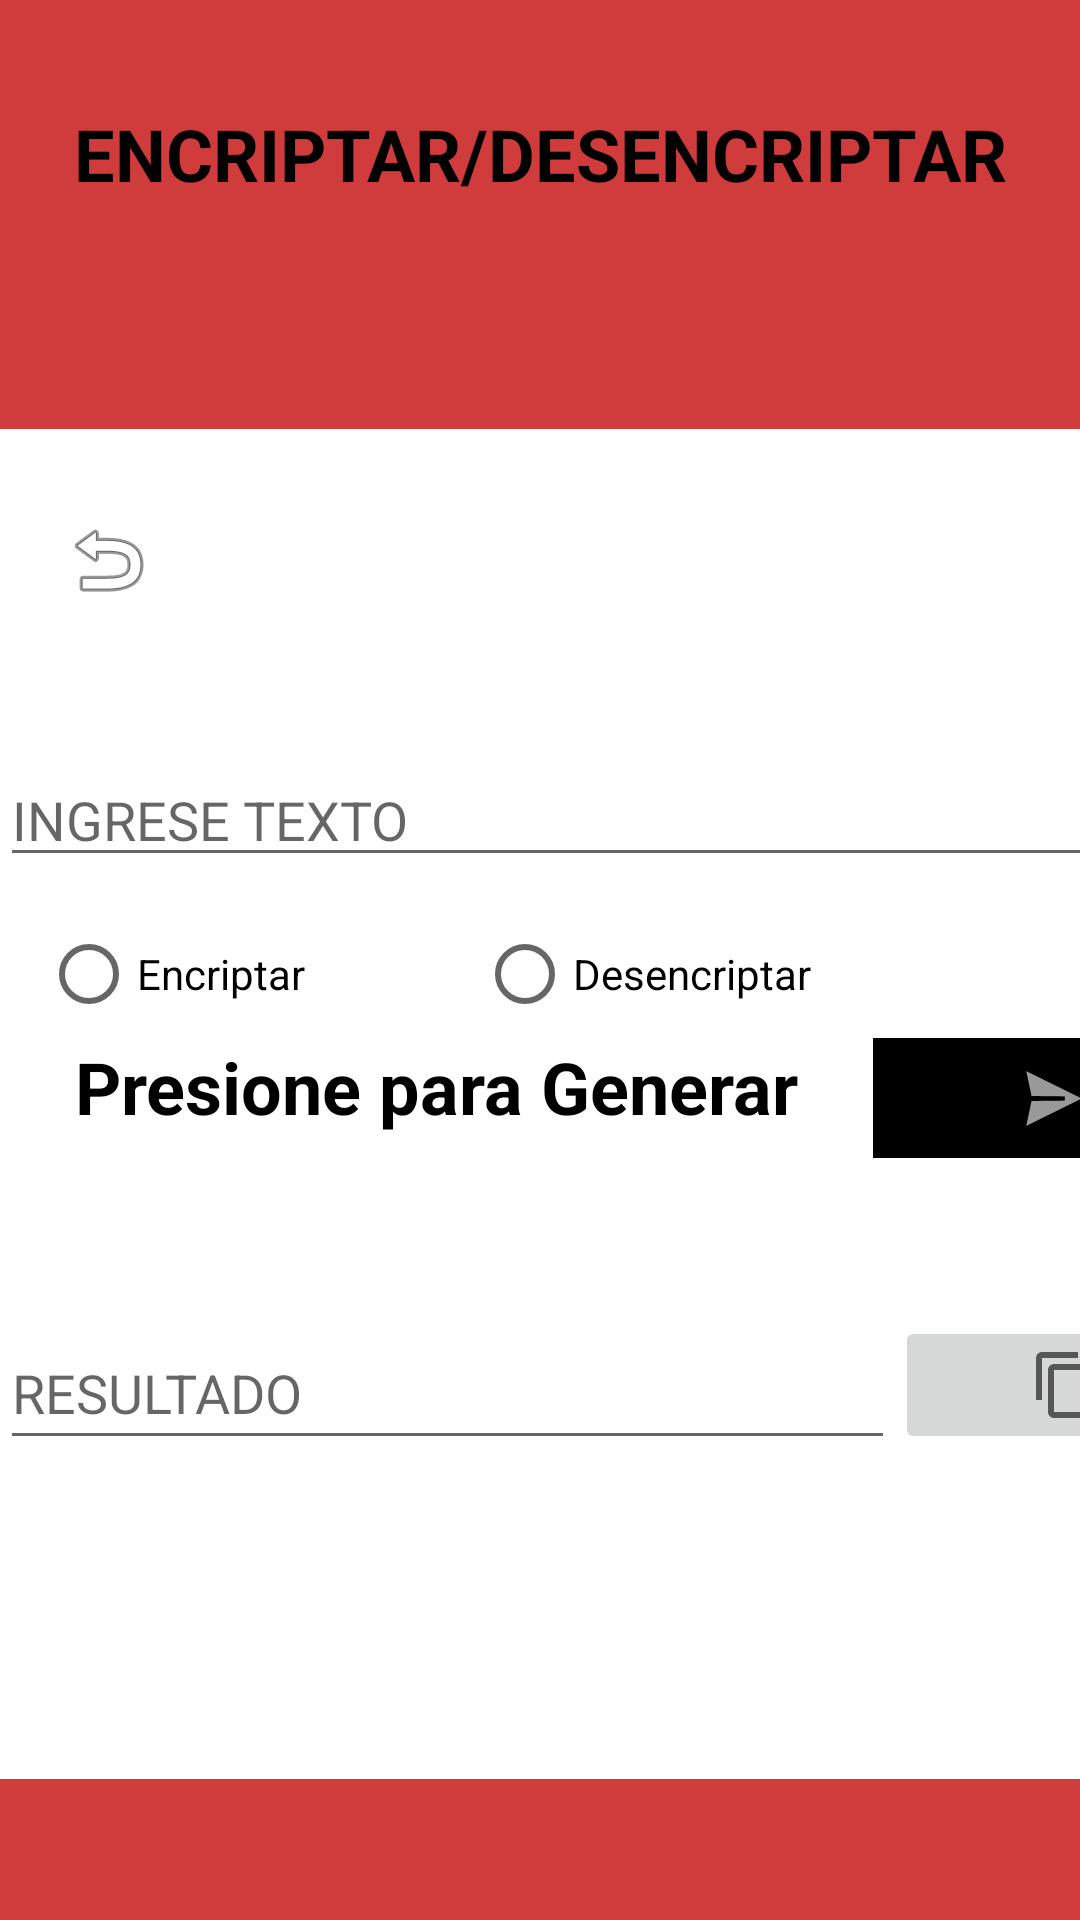

Named icons in this screenshot (1080px×1920px) and their centers, (x=x, y=y):
revert: (x=109, y=560)
